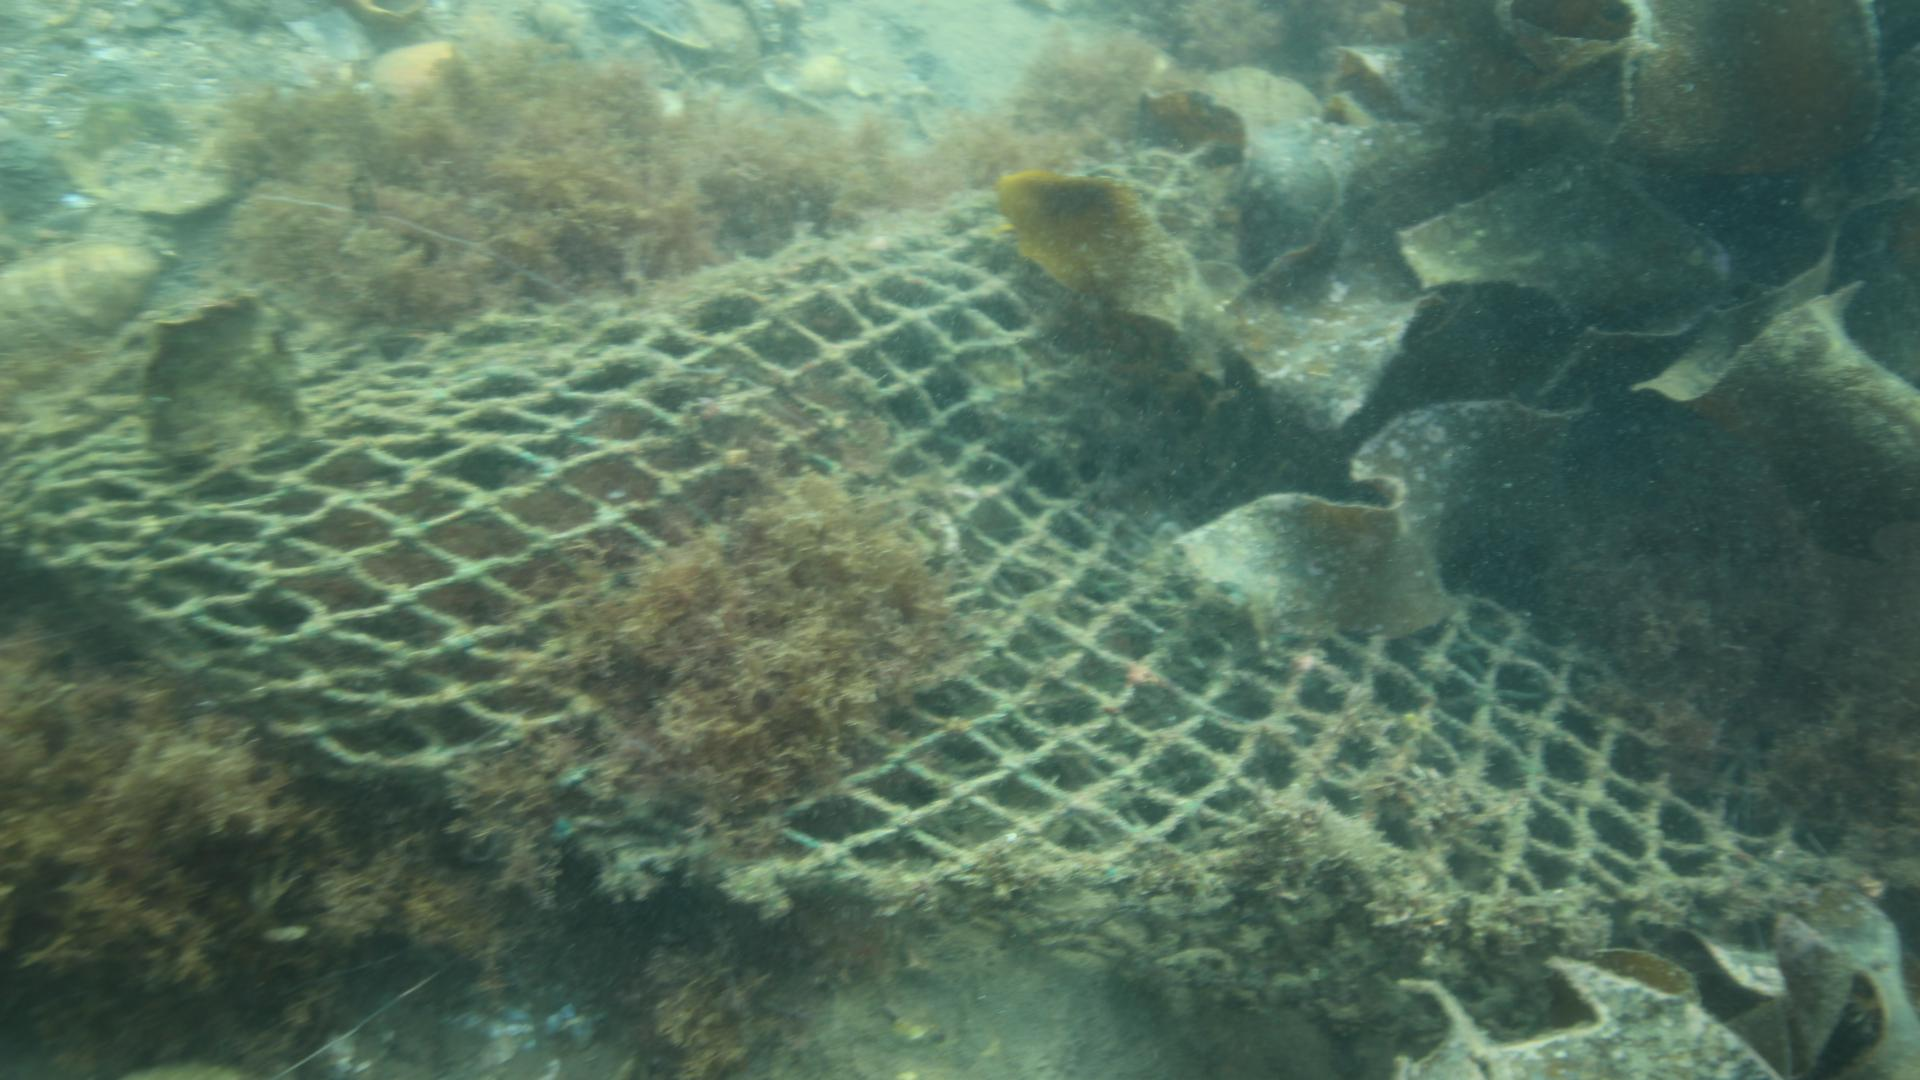fish net: (0, 146, 1851, 905)
